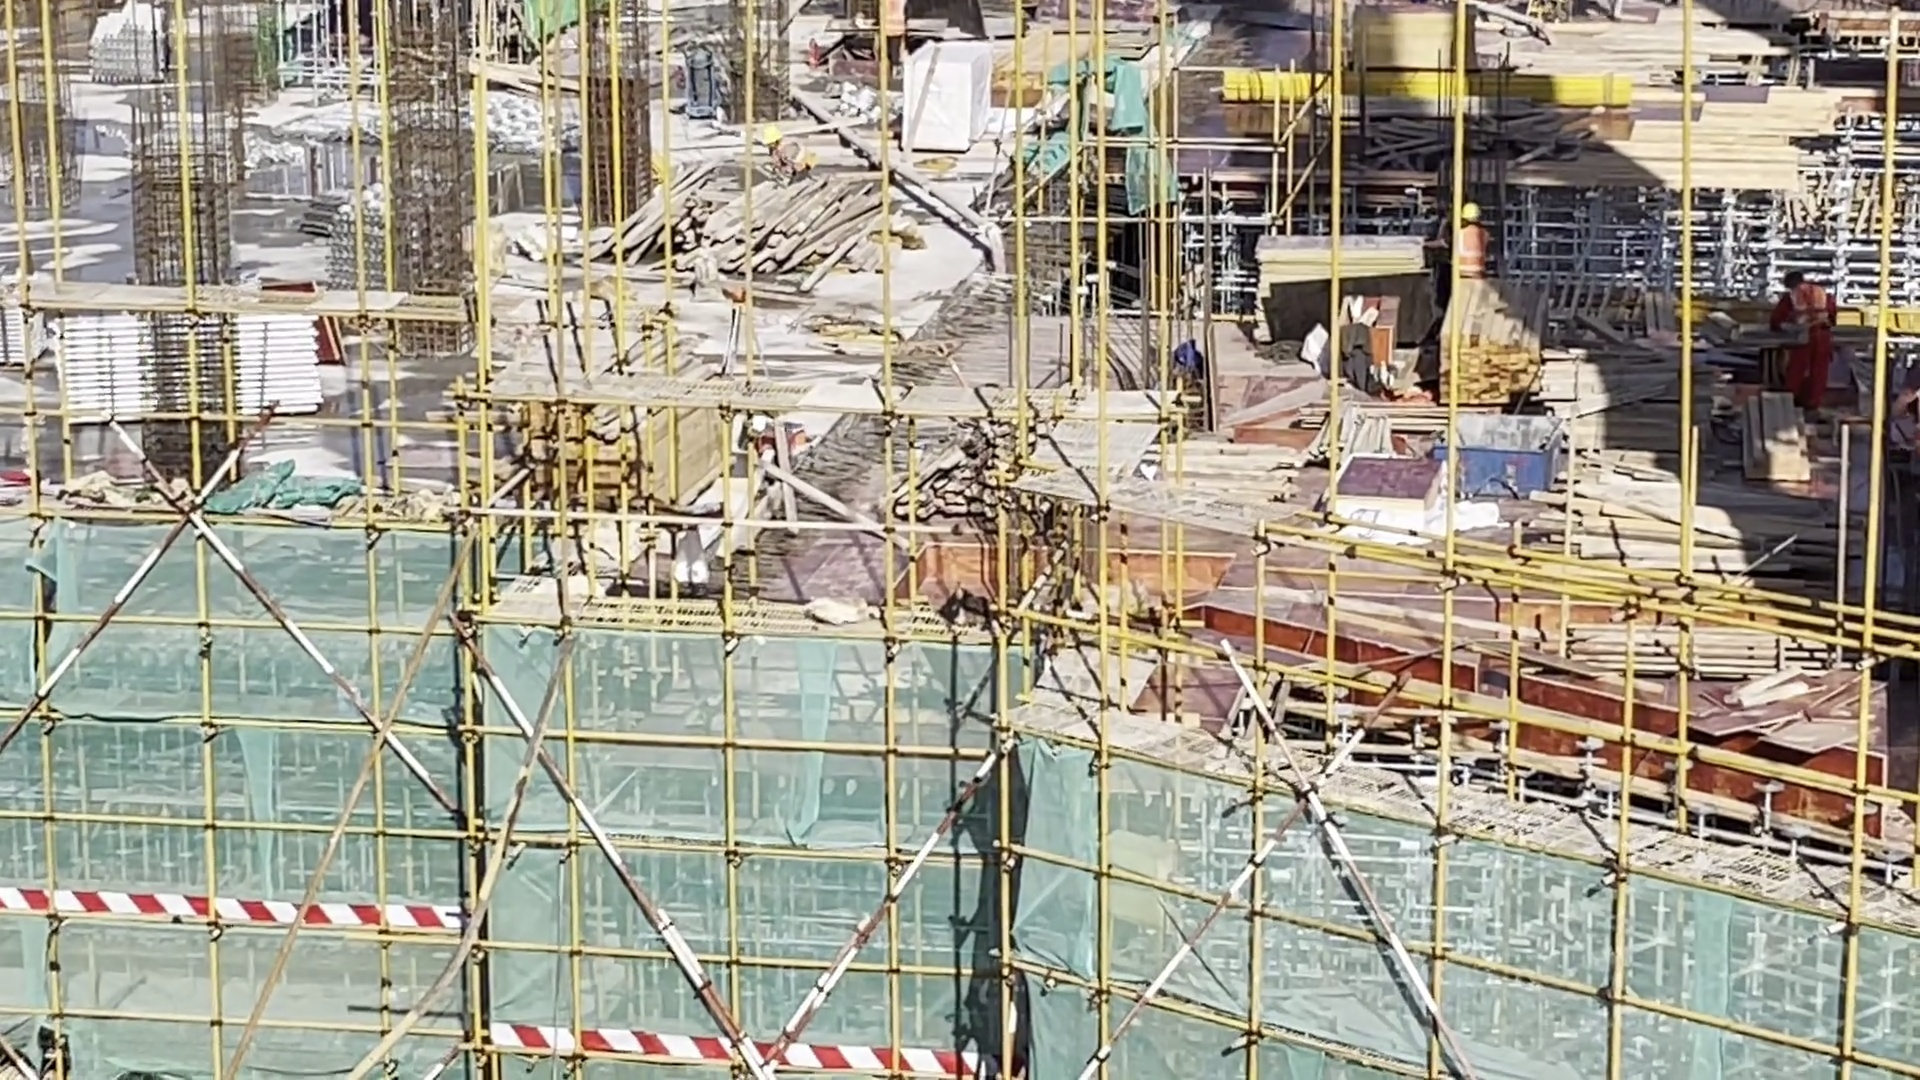board: (1699, 652, 1888, 765)
helmet: (1777, 265, 1806, 297), (741, 419, 771, 446), (1456, 201, 1482, 227), (755, 127, 787, 147)
hopper: (1444, 418, 1567, 504)
person: (1774, 267, 1832, 405), (745, 129, 811, 188), (735, 404, 803, 460), (1457, 203, 1493, 284)
scaffold: (44, 307, 318, 434)
vest: (1780, 298, 1833, 375), (1457, 224, 1486, 276)
wood: (626, 200, 907, 305), (1554, 600, 1786, 687), (1437, 287, 1552, 418)
